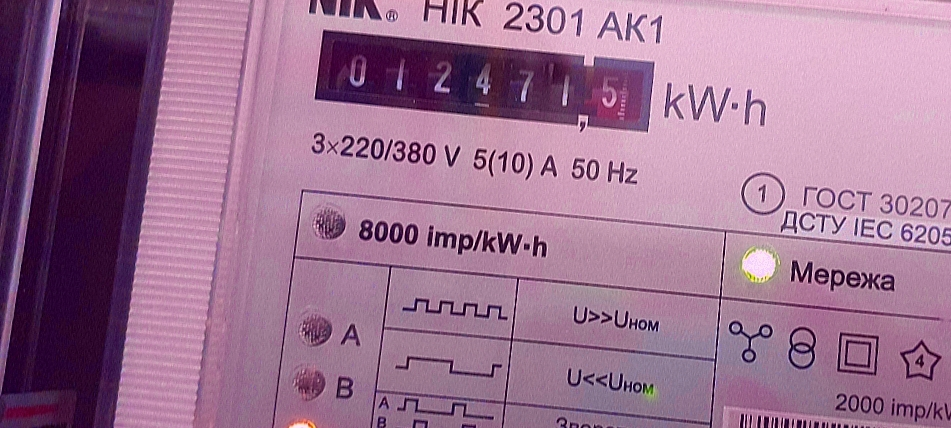0: (342, 52, 369, 90)
1: (555, 72, 571, 110), (390, 57, 406, 94)
2: (429, 59, 454, 97)
4: (470, 60, 493, 99)
5: (595, 72, 621, 112)
7: (509, 66, 534, 107)
screen: (300, 13, 667, 152)
